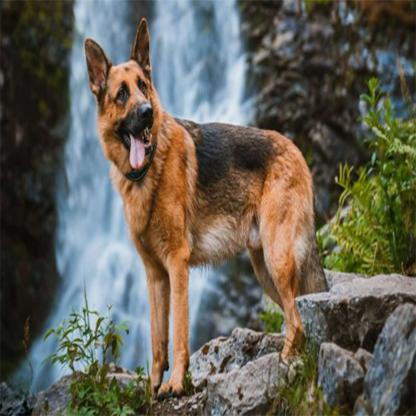german shepherd: (88, 26, 316, 398)
